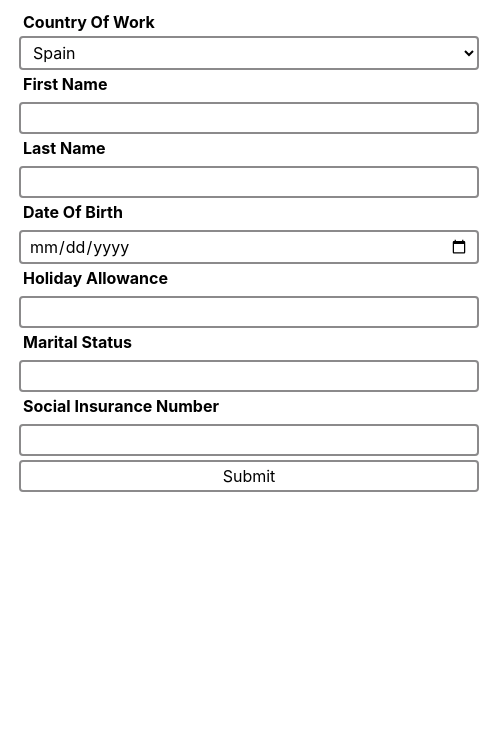
Test: show error messages for empty fields
What coordinates should you click on to do the following:
click the button named "submit employee form"
I would click on:
 (249, 476)
Its box is [19,460,479,492].
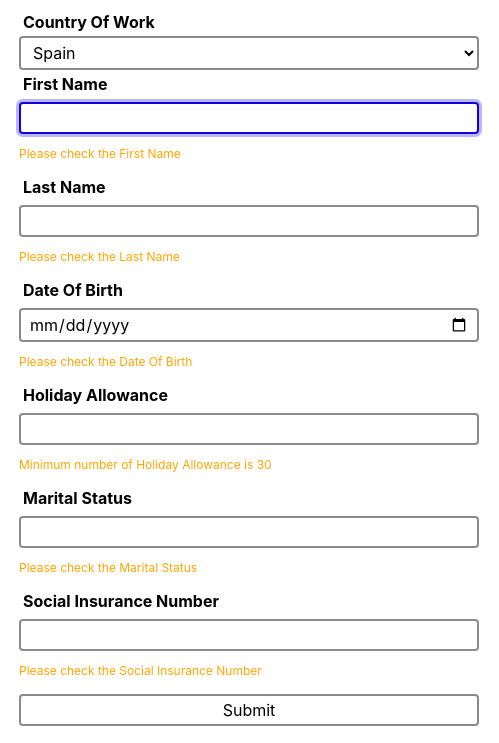
Now the text "Please check the Last Name" is shown, box [19,249,180,264]
Now the text "Please check the Date Of Birth" is shown, box [19,354,192,369]
Now the text "Please check the First Name" is shown, box [19,146,181,161]
